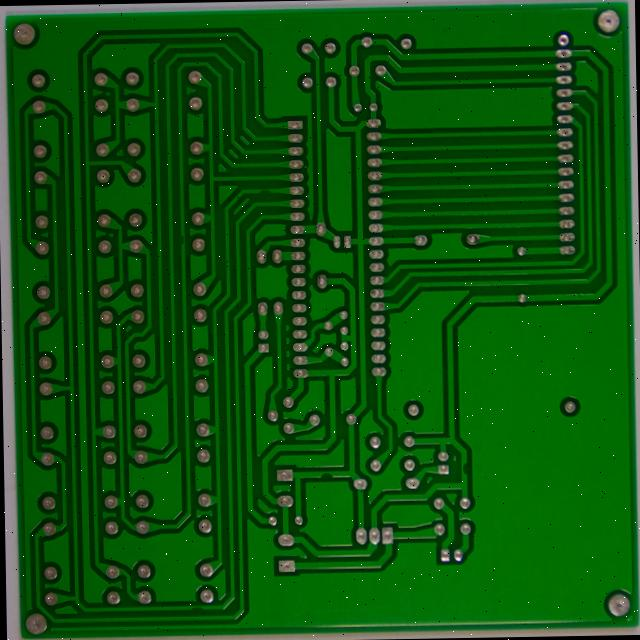mouse_bite: (99, 165, 115, 191), (111, 596, 135, 613), (263, 442, 287, 458), (428, 431, 444, 454), (192, 114, 214, 129)
